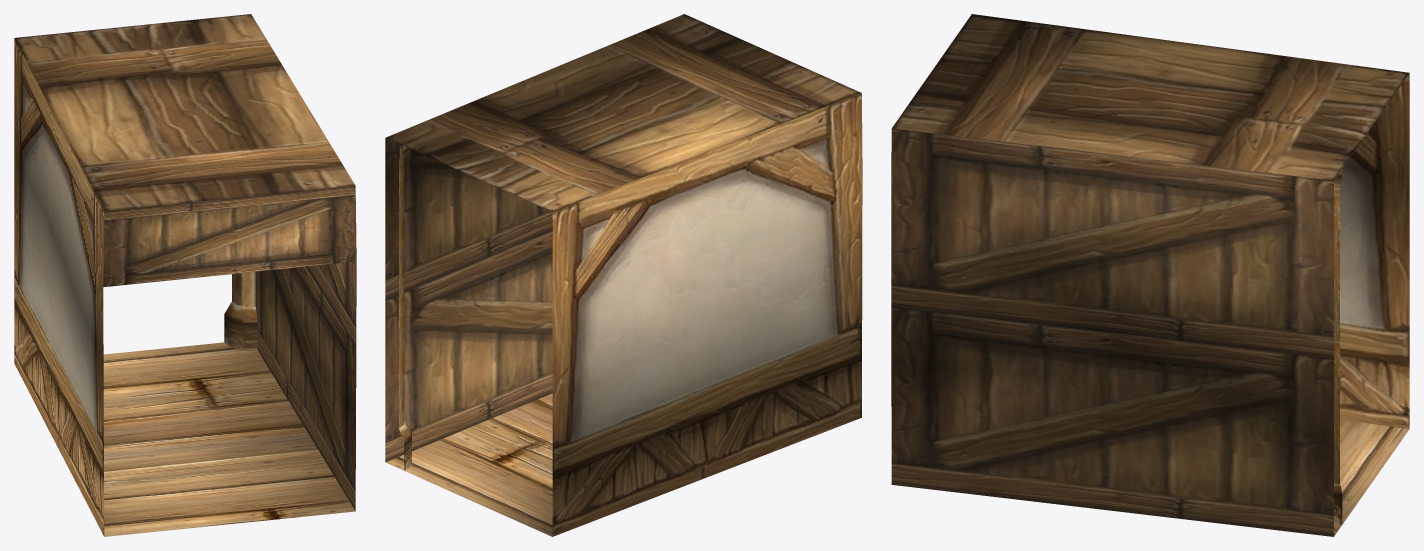
Rendered from stormwind_095.fbx.
The picture shows the model from 3 angles, left to right: view 1: azimuth 30°, elevation 25°; view 2: azimuth 150°, elevation 25°; view 3: azimuth 270°, elevation 25°; orthographic projection. The views are drawn at different scales.
Parts seen in each view (by area): view 1: stormwind_095_55, stormwind_095_51, stormwind_095_56, stormwind_095_48, stormwind_095_53; view 2: stormwind_095_48, stormwind_095_55, stormwind_095_56, stormwind_095_51, stormwind_095_53; view 3: stormwind_095_56, stormwind_095_55, stormwind_095_48, stormwind_095_51, stormwind_095_53.
Part boxes in pixels (x1,y1,x2,y2): stormwind_095_55: [14, 14, 355, 211]; stormwind_095_51: [103, 342, 355, 536]; stormwind_095_56: [103, 186, 356, 510]; stormwind_095_48: [14, 38, 104, 536]; stormwind_095_53: [224, 271, 257, 350]; stormwind_095_48: [552, 93, 862, 536]; stormwind_095_55: [386, 14, 861, 211]; stormwind_095_56: [385, 138, 552, 462]; stormwind_095_51: [385, 393, 552, 536]; stormwind_095_53: [399, 145, 411, 470]; stormwind_095_56: [891, 128, 1333, 536]; stormwind_095_55: [892, 14, 1409, 180]; stormwind_095_48: [1340, 73, 1409, 428]; stormwind_095_51: [1334, 419, 1409, 536]; stormwind_095_53: [1334, 169, 1342, 524].
Size of the model in its own units: 5.99 by 5.95 by 7.84.
